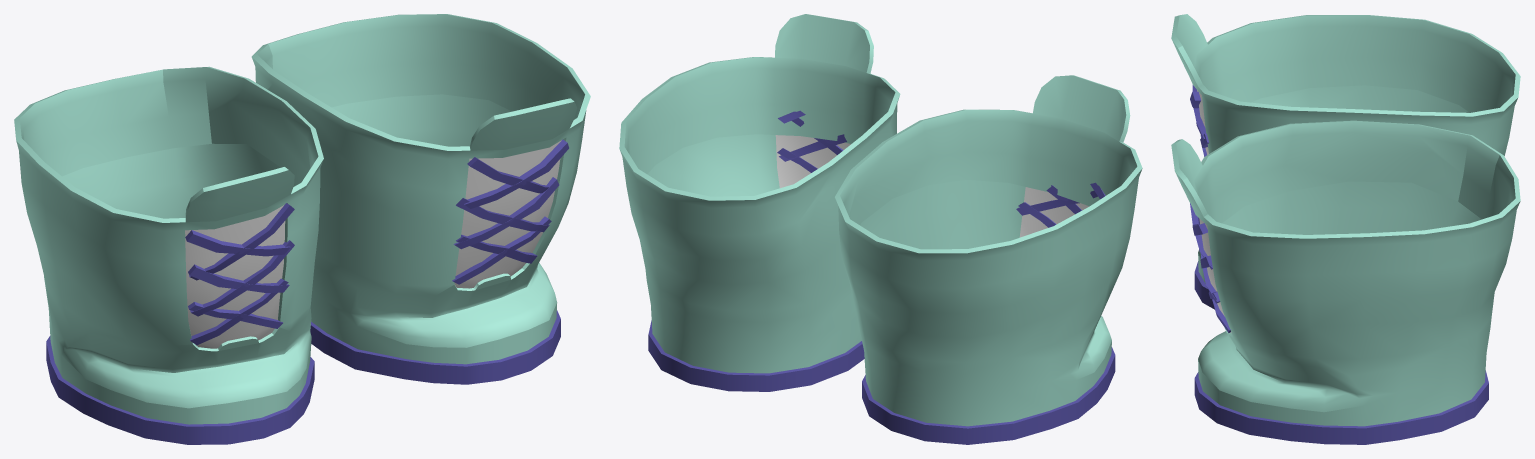
The model's file is Boots02_nolace.fbx.
3 views of the same model, side by side, from view 1: azimuth 30°, elevation 25°; view 2: azimuth 150°, elevation 25°; view 3: azimuth 270°, elevation 25° (orthographic). The views are drawn at different scales.
Visible parts, largest first — view 1: Boots_b_nolace; view 2: Boots_b_nolace; view 3: Boots_b_nolace.
Boxes of the visible parts, left/top/right/bottom form: Boots_b_nolace: left=14, top=14, right=590, bottom=444; Boots_b_nolace: left=619, top=14, right=1142, bottom=444; Boots_b_nolace: left=1171, top=14, right=1520, bottom=444.
Bounding box in the file's own units: 103 × 54.78 × 68.32.
